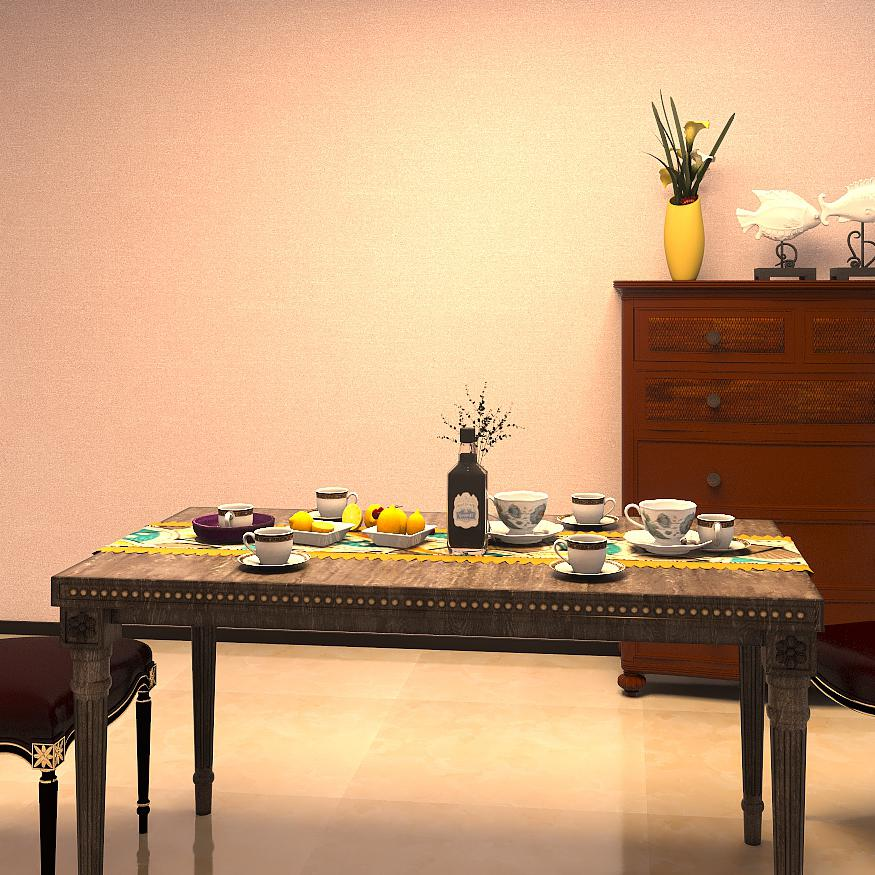table: (41, 503, 824, 872)
